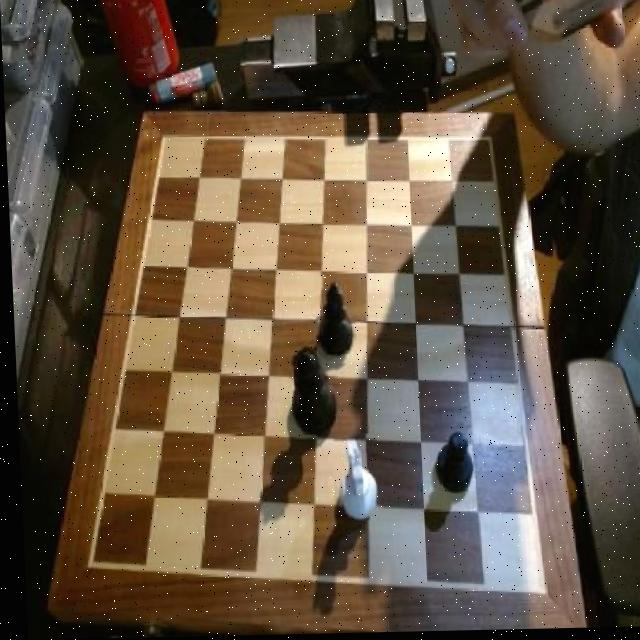bishop: (311, 279, 357, 367)
black-knight: (427, 426, 474, 498)
black-pawn: (286, 348, 337, 441)
white-king: (331, 437, 378, 524)
